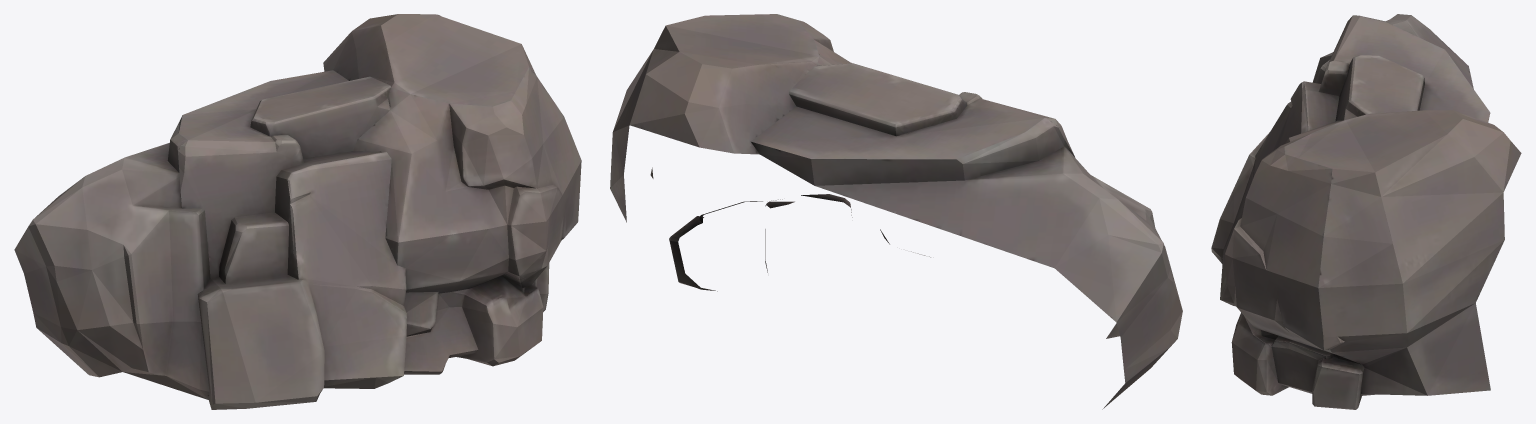
3 views of the same model, side by side, from view 1: azimuth 30°, elevation 25°; view 2: azimuth 150°, elevation 25°; view 3: azimuth 270°, elevation 25° (orthographic). The views are drawn at different scales.
Visible parts, largest first — view 1: body0_model0_lod0_mesh0; view 2: body0_model0_lod0_mesh0; view 3: body0_model0_lod0_mesh0.
Boxes of the visible parts, x1,y1,x2,y2 form: body0_model0_lod0_mesh0: (14, 14, 581, 409); body0_model0_lod0_mesh0: (610, 14, 1182, 409); body0_model0_lod0_mesh0: (1211, 14, 1521, 409).
Size of the model in its own units: 454 by 230 by 244.
1 material, 1 textured.
